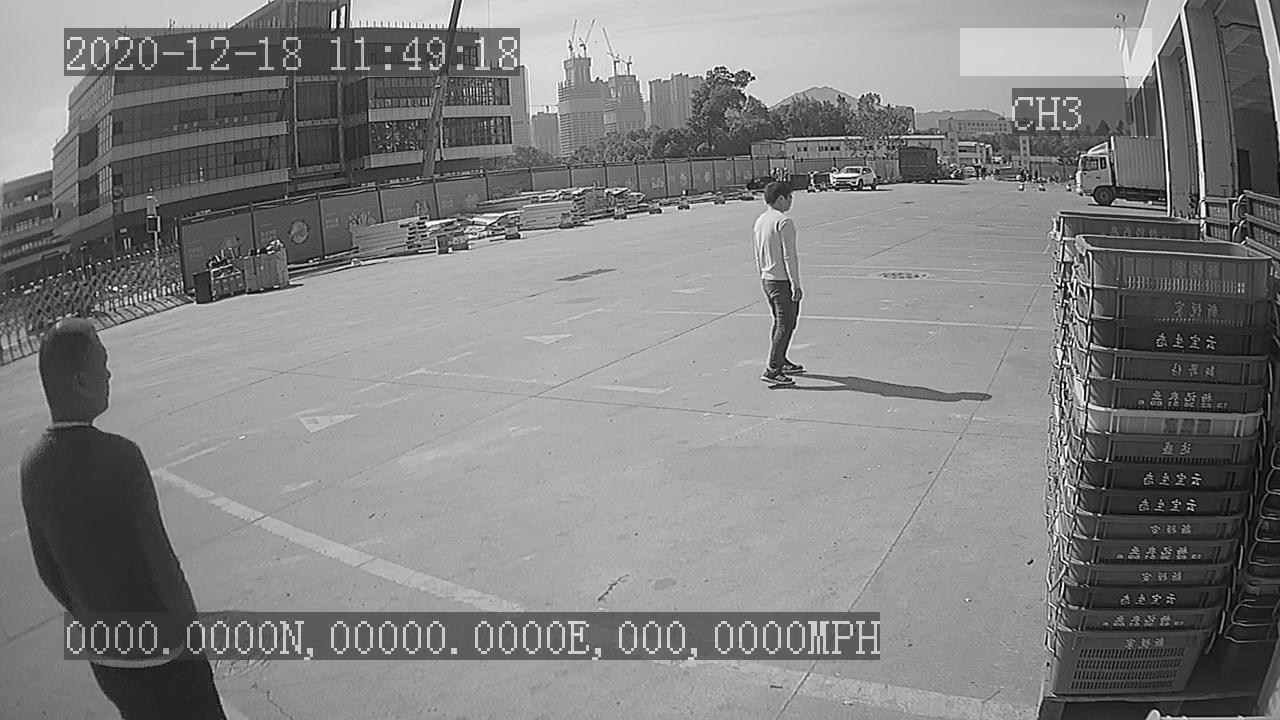person: (747, 176, 811, 390)
